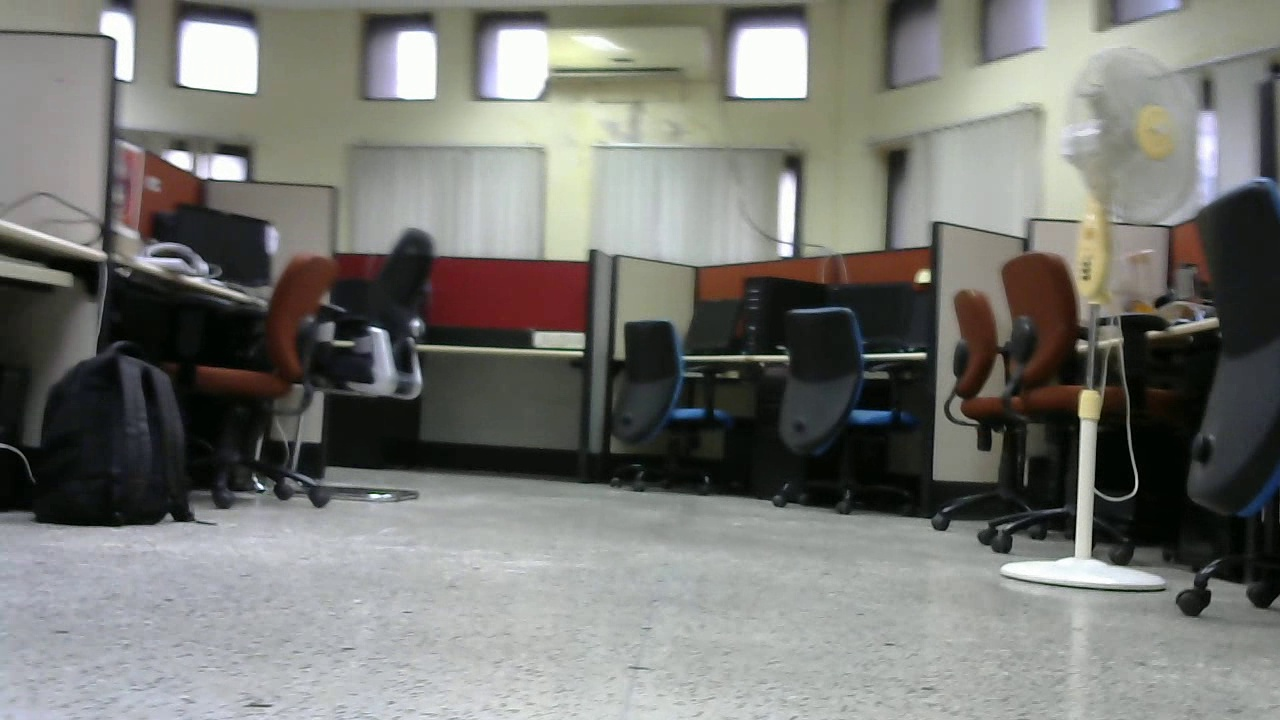chair: (1002, 263, 1171, 562), (190, 241, 339, 504), (324, 226, 451, 501), (778, 293, 908, 519), (605, 323, 753, 507), (940, 283, 1022, 547)
